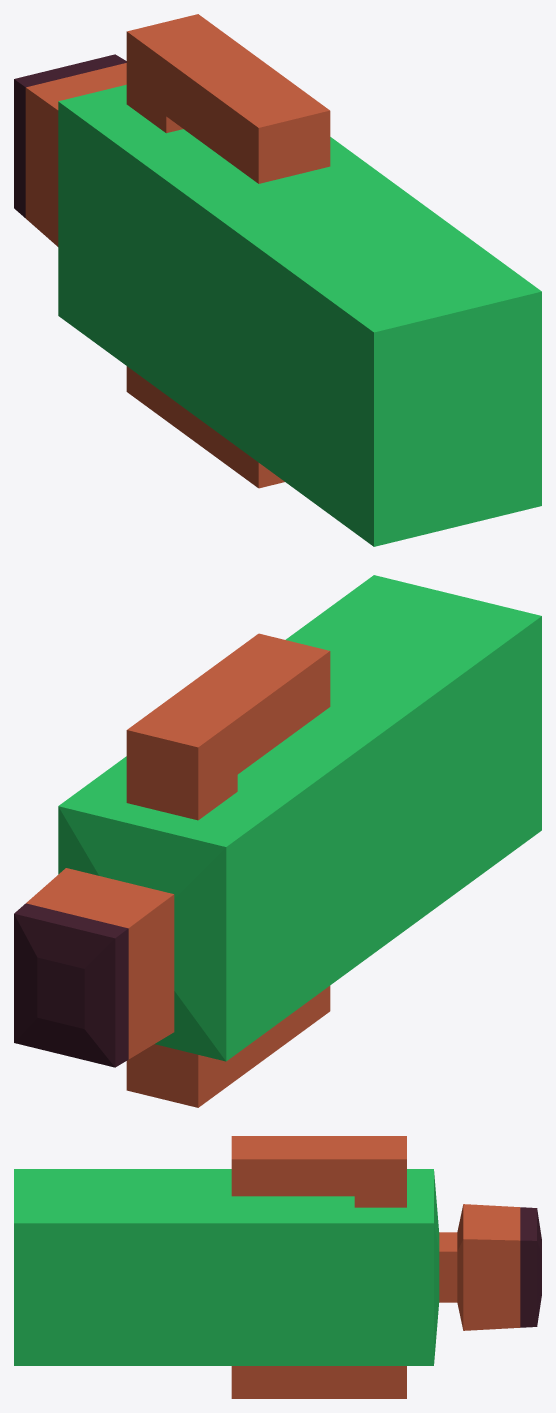
File: Teenager.fbx
The picture shows the model from 3 angles, top to bottom: view 1: azimuth 30°, elevation 25°; view 2: azimuth 150°, elevation 25°; view 3: azimuth 270°, elevation 25°; orthographic projection. The views are drawn at different scales.
Parts seen in each view (by area): view 1: Cube; view 2: Cube; view 3: Cube.
Part boxes in pixels (x1=…): Cube: x1=14, y1=14, x2=541, y2=546; Cube: x1=14, y1=575, x2=541, y2=1107; Cube: x1=14, y1=1136, x2=541, y2=1398.
Bounding box in the file's own units: 0.6142 × 1.26 × 2.51.
